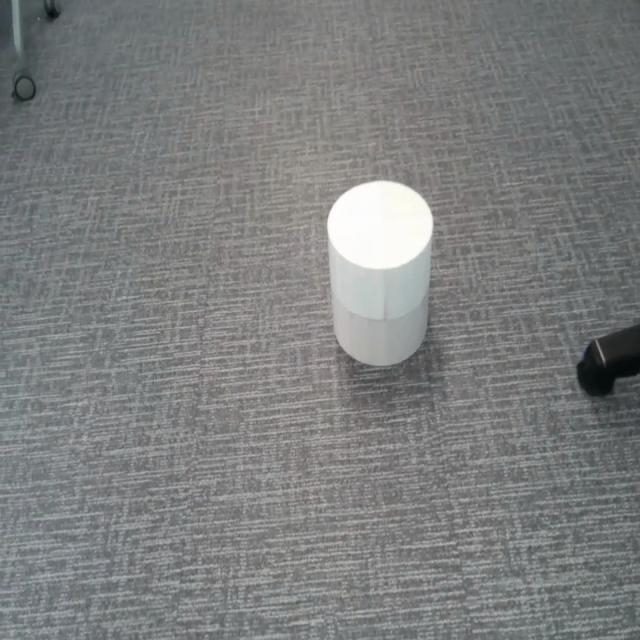cylinder: (326, 179, 433, 369)
